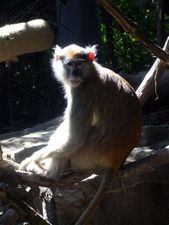monkey: (26, 28, 154, 175)
